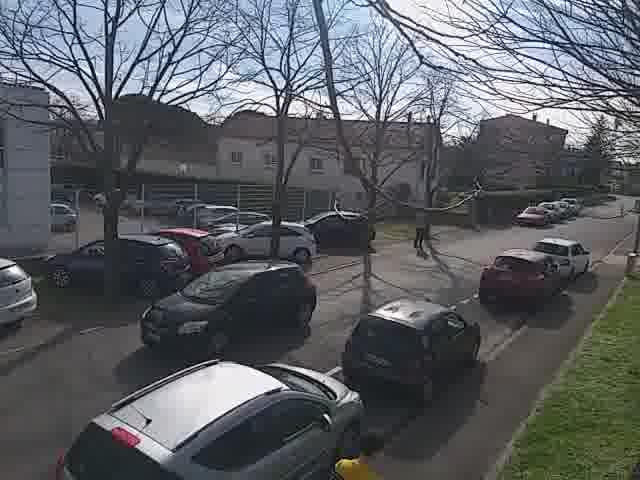persona: (409, 199, 429, 250)
